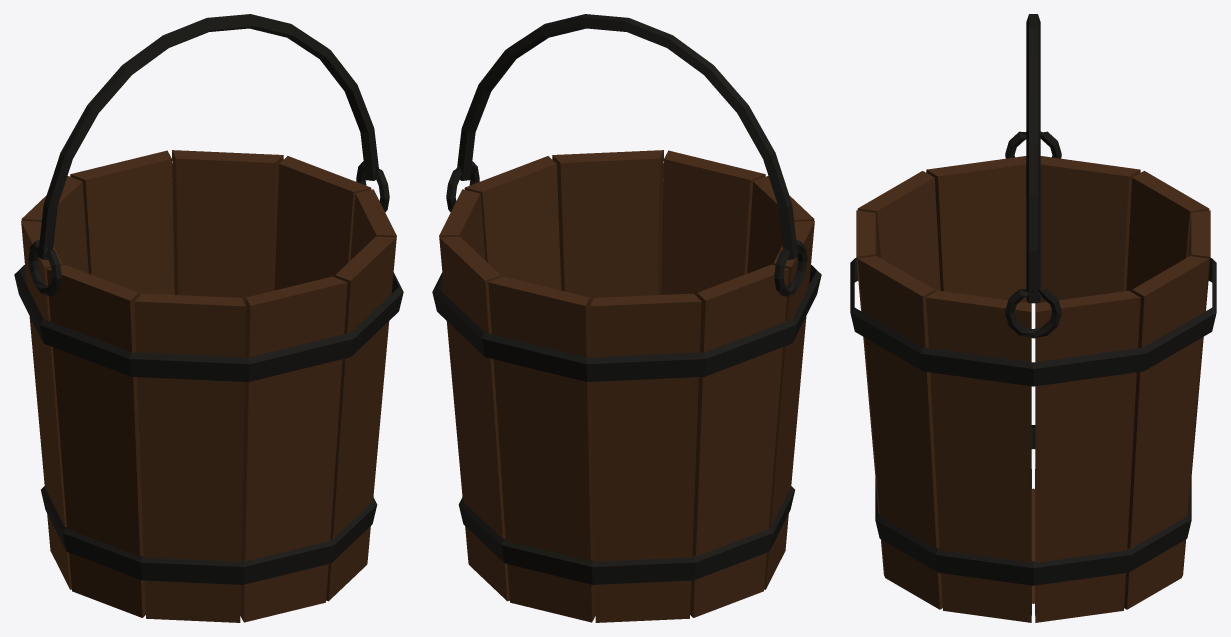
The model's file is bucket_LOD1.obj.
The picture shows the model from 3 angles, left to right: view 1: azimuth 30°, elevation 25°; view 2: azimuth 150°, elevation 25°; view 3: azimuth 270°, elevation 25°; orthographic projection.
Size of the model in its own units: 0.664 by 1.01 by 0.6315.
